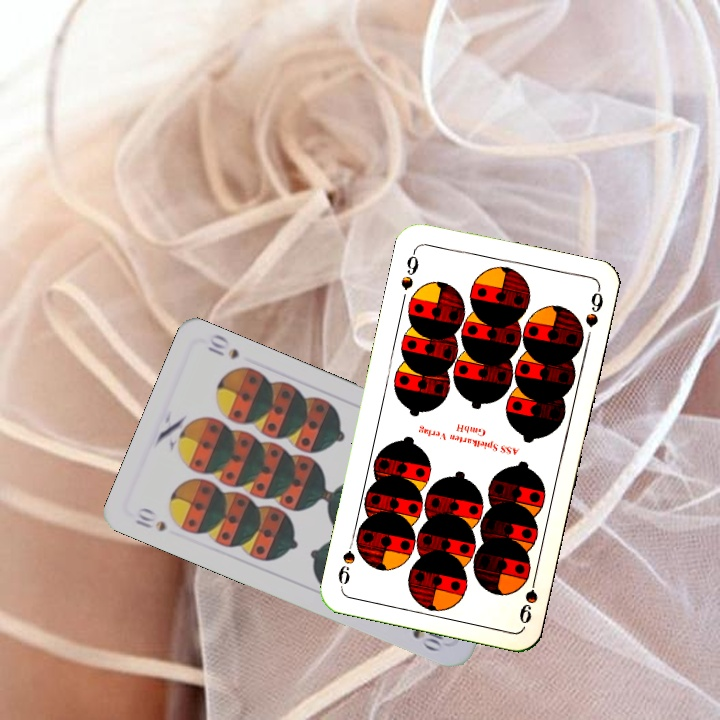S10: (131, 503, 169, 534)
S9: (515, 568, 541, 627), (396, 245, 421, 293)
